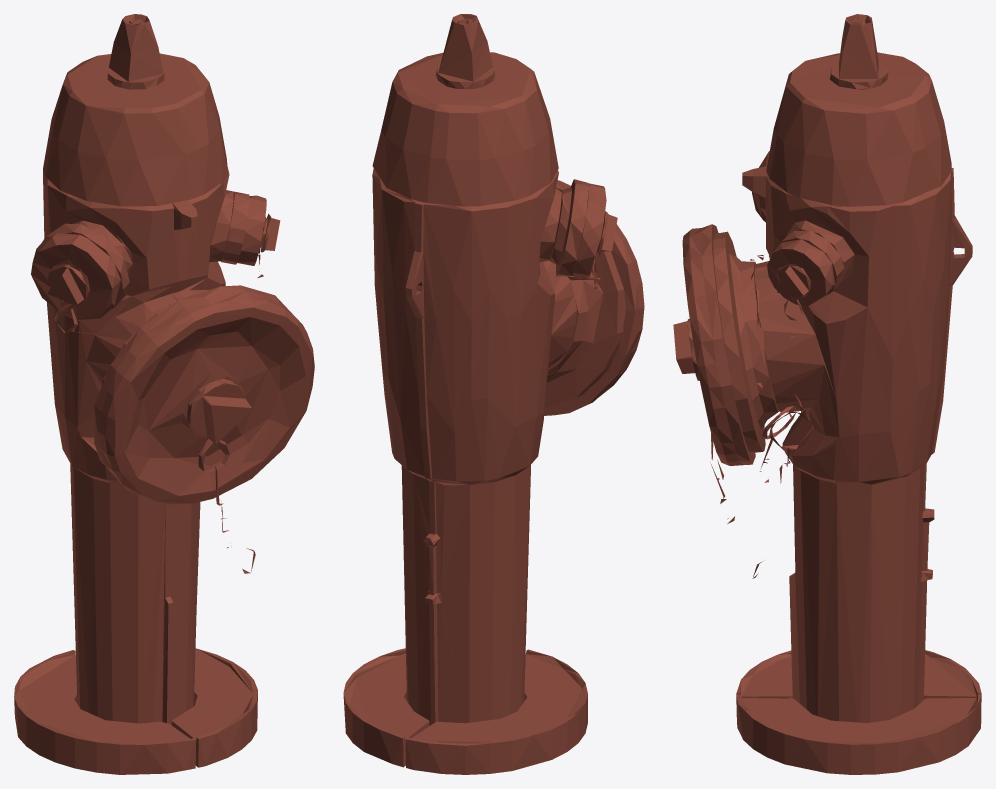
The model's file is fire_hydrant.glb.
The picture shows the model from 3 angles, left to right: view 1: azimuth 30°, elevation 25°; view 2: azimuth 150°, elevation 25°; view 3: azimuth 270°, elevation 25°; orthographic projection.
Visible parts, largest first — view 1: fire_hydrant; view 2: fire_hydrant; view 3: fire_hydrant.
Boxes of the visible parts, x1,y1,x2,y2 form: fire_hydrant: (14, 14, 314, 774); fire_hydrant: (343, 14, 644, 774); fire_hydrant: (673, 14, 981, 774).
Size of the model in its own units: 0.2745 by 0.7994 by 0.3173.
